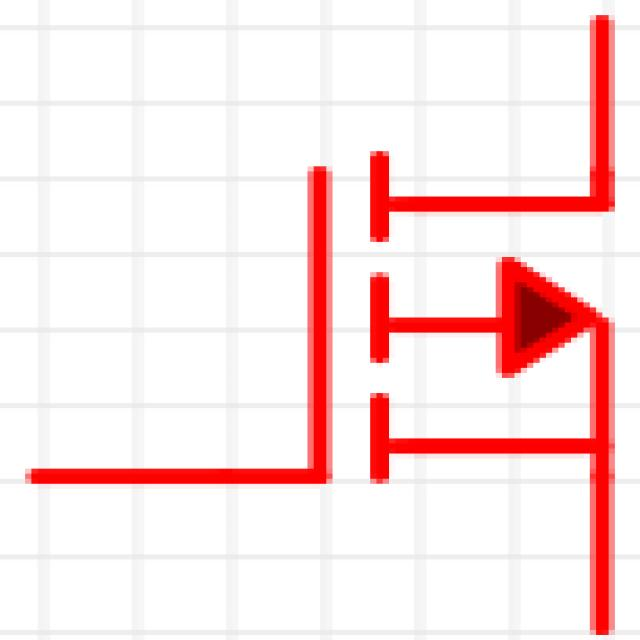pmos: (37, 31, 640, 640)
